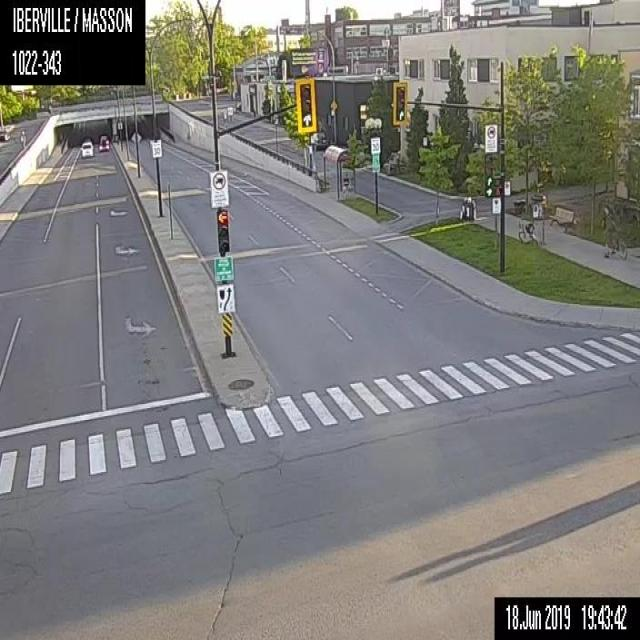cyclist: (598, 202, 628, 262)
vehicle: (310, 130, 327, 150), (79, 138, 94, 158), (97, 132, 110, 149), (0, 127, 11, 141)
